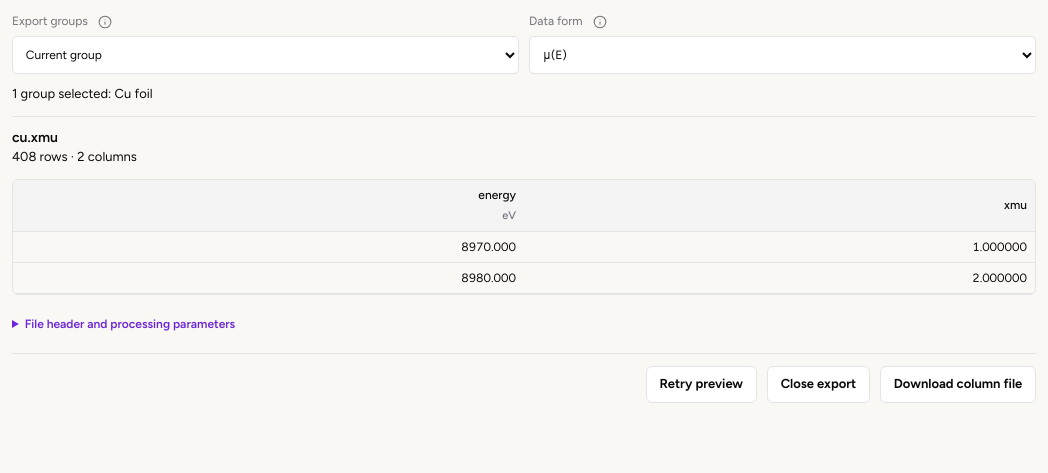
Test: previews the current applied revision and exact server columns and header
Expected: the text "408 rows · 2 columns" is shown, [12,149,137,164]
Click the heading "File header and processing parameters" at (130, 324), box [25,317,235,331]
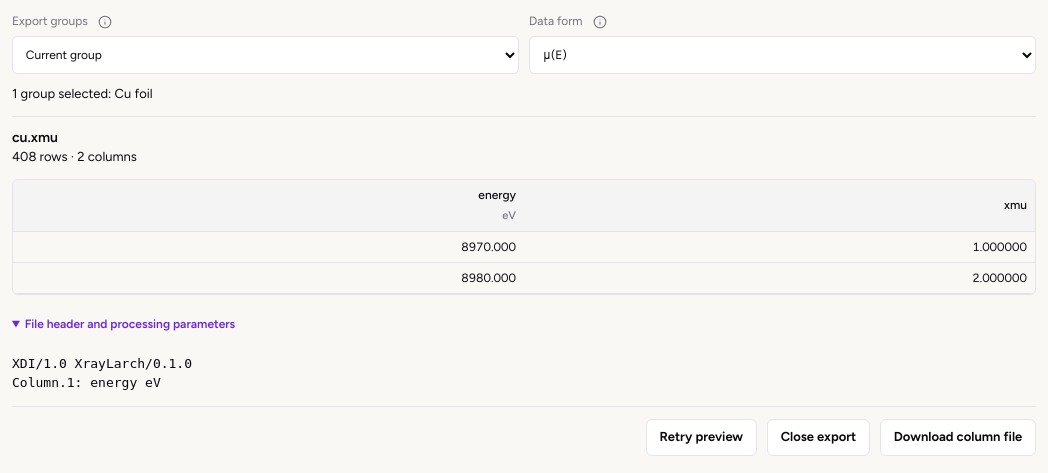
Expected: the button "Download column file" is enabled, [880,419,1036,456]
Expected: the text "XDI/1.0 XrayLarch/0.1.0 Column.1: energy eV" is shown, [12,356,192,390]
